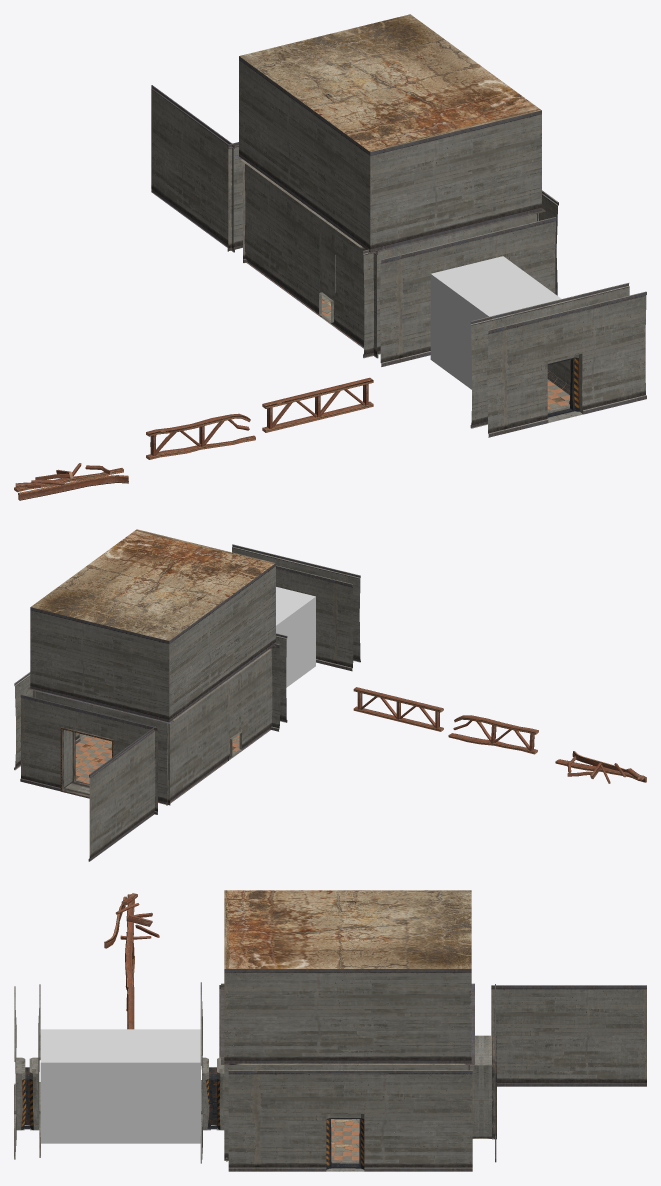
The model's file is Bunker_All.FBX.
3 views of the same model, one above another, from view 1: azimuth 30°, elevation 25°; view 2: azimuth 150°, elevation 25°; view 3: azimuth 270°, elevation 25° (orthographic). The views are drawn at different scales.
Parts seen in each view (by area): view 1: Object036, Plane019, Plane016, Plane015, Plane001, Box021, Plane017, Plane004, Box050, Box052, Box051, Plane002 (+1 smaller); view 2: Object036, Plane019, Plane002, Plane016, Plane001, Plane017, Box021, Plane004, Box050, Box051, Plane015, Box052 (+5 smaller); view 3: Plane020, Object036, Plane019, Box021, Plane001, Plane002, Plane016, Plane015, Box052, Object037, Object023, Group011 (+4 smaller).
Part boxes in pixels (<box>): Object036: <box>235,56,545,254</box>; Plane019: <box>239,14,541,151</box>; Plane016: <box>470,283,646,437</box>; Plane015: <box>363,213,556,366</box>; Plane001: <box>151,85,234,252</box>; Box021: <box>430,256,561,389</box>; Plane017: <box>244,164,321,316</box>; Plane004: <box>334,230,378,358</box>; Box050: <box>262,377,373,432</box>; Box052: <box>14,463,128,500</box>; Box051: <box>146,413,255,459</box>; Plane002: <box>227,142,247,262</box>; Object036: <box>27,563,278,723</box>; Plane019: <box>30,529,275,640</box>; Plane002: <box>20,690,170,814</box>; Plane016: <box>232,544,360,671</box>; Plane001: <box>88,726,156,861</box>; Plane017: <box>166,681,228,805</box>; Box021: <box>276,587,315,687</box>; Plane004: <box>240,650,272,751</box>; Box050: <box>353,687,443,731</box>; Box051: <box>448,715,538,754</box>; Plane015: <box>229,633,287,731</box>; Box052: <box>555,751,646,783</box>; Plane020: <box>224,1065,472,1171</box>; Object036: <box>221,969,474,1064</box>; Plane019: <box>224,890,471,968</box>; Box021: <box>40,1029,200,1143</box>; Plane001: <box>491,985,646,1086</box>; Plane002: <box>467,984,496,1162</box>; Plane016: <box>14,984,40,1159</box>; Plane015: <box>200,982,227,1163</box>; Box052: <box>104,893,159,948</box>; Object037: <box>326,1118,364,1169</box>; Object023: <box>205,1067,220,1129</box>; Group011: <box>331,1135,359,1160</box>.
Size of the model in its own units: 29.14 by 9.86 by 28.48.
